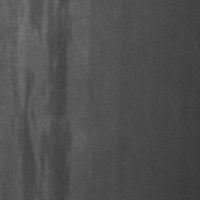inclusion: (20, 1, 72, 199)
